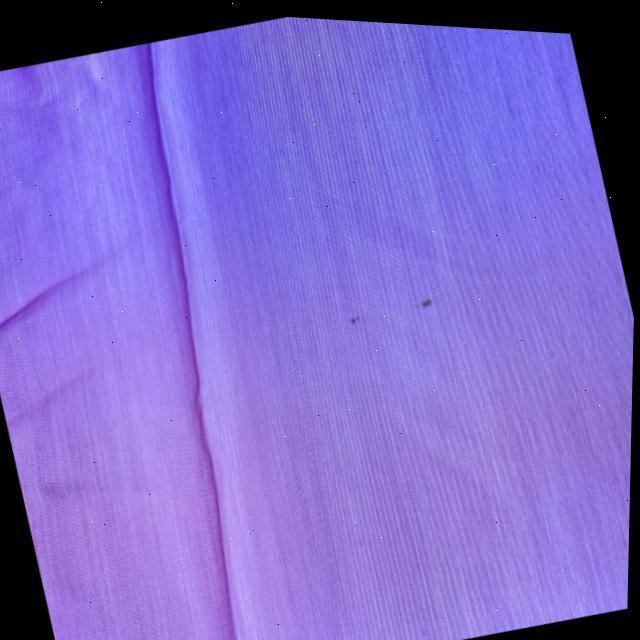broken_yarn: (144, 40, 240, 640)
